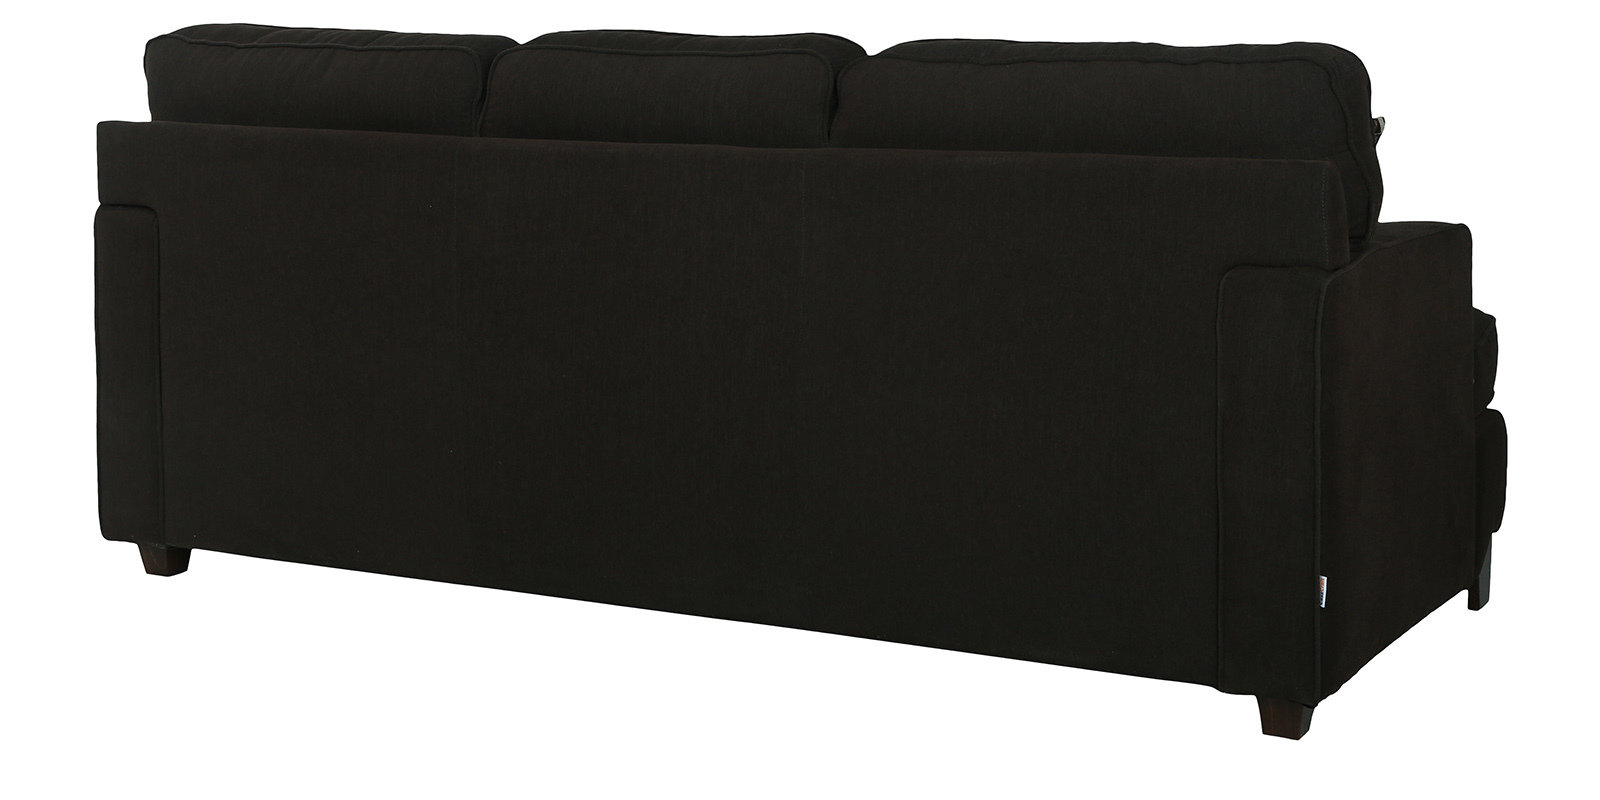Parana Three Seater Sofa in Chestnut Brown Color by CasaCraft: (93, 19, 1511, 741)
